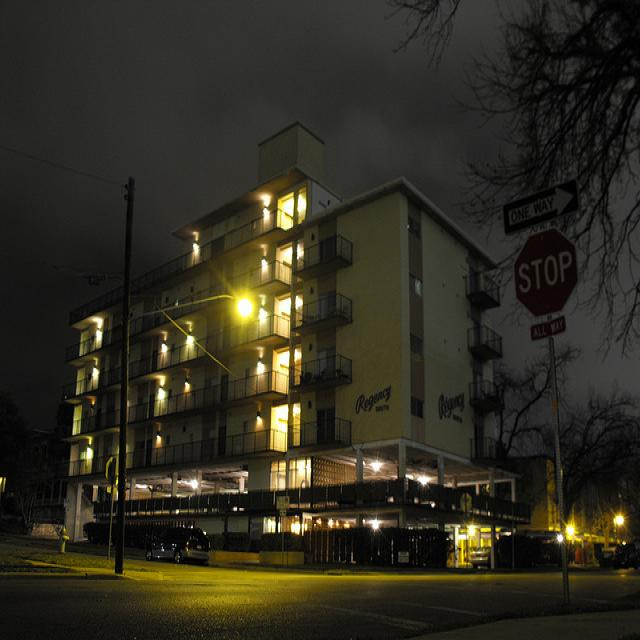Car: (151, 503, 219, 582)
